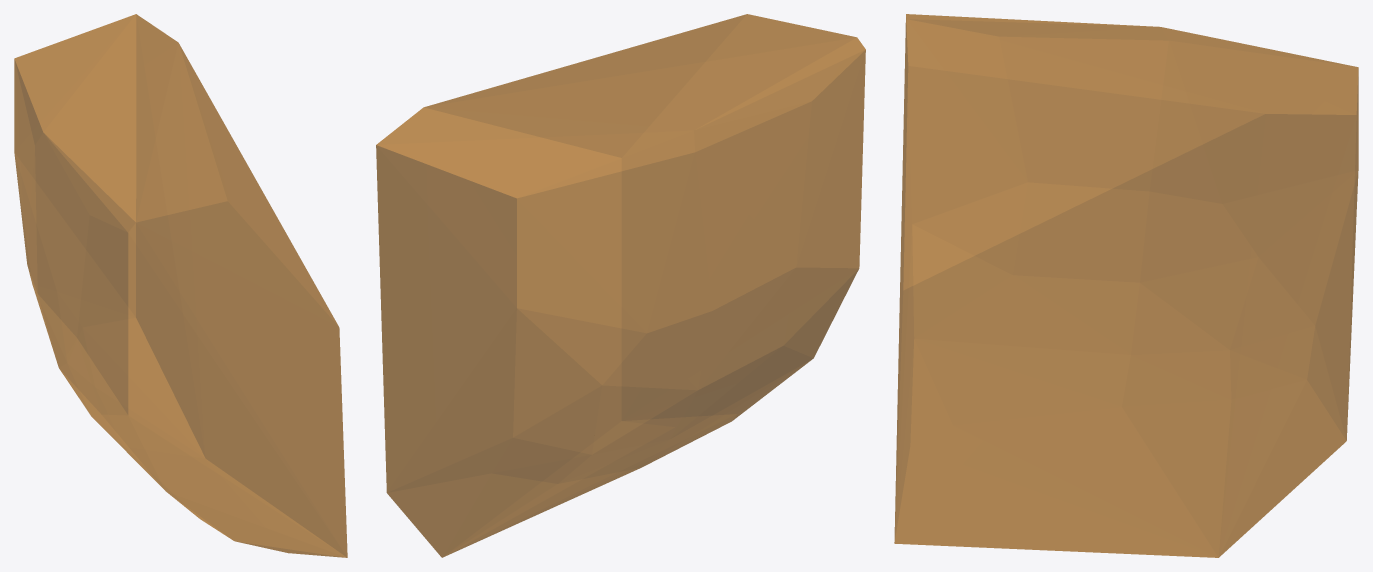
3 views of the same model, side by side, from view 1: azimuth 30°, elevation 25°; view 2: azimuth 150°, elevation 25°; view 3: azimuth 270°, elevation 25° (orthographic). The views are drawn at different scales.
Parts seen in each view (by area): view 1: Shape_IndexedFaceSet.011_Shape_IndexedFaceSet.15115; view 2: Shape_IndexedFaceSet.011_Shape_IndexedFaceSet.15115; view 3: Shape_IndexedFaceSet.011_Shape_IndexedFaceSet.15115.
Boxes of the visible parts, <box> form: Shape_IndexedFaceSet.011_Shape_IndexedFaceSet.15115: <box>14,14,347,557</box>; Shape_IndexedFaceSet.011_Shape_IndexedFaceSet.15115: <box>376,14,865,557</box>; Shape_IndexedFaceSet.011_Shape_IndexedFaceSet.15115: <box>894,14,1358,557</box>.
Bounding box in the file's own units: 0.2113 × 0.3692 × 0.352.
